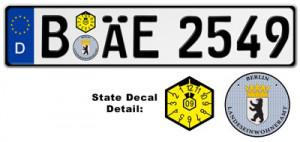2: (177, 14, 204, 59)
4: (236, 13, 261, 60)
5: (207, 14, 233, 59)
9: (264, 13, 291, 60)
B: (40, 13, 70, 59)
E: (132, 14, 160, 59)
ae: (100, 14, 129, 60)
